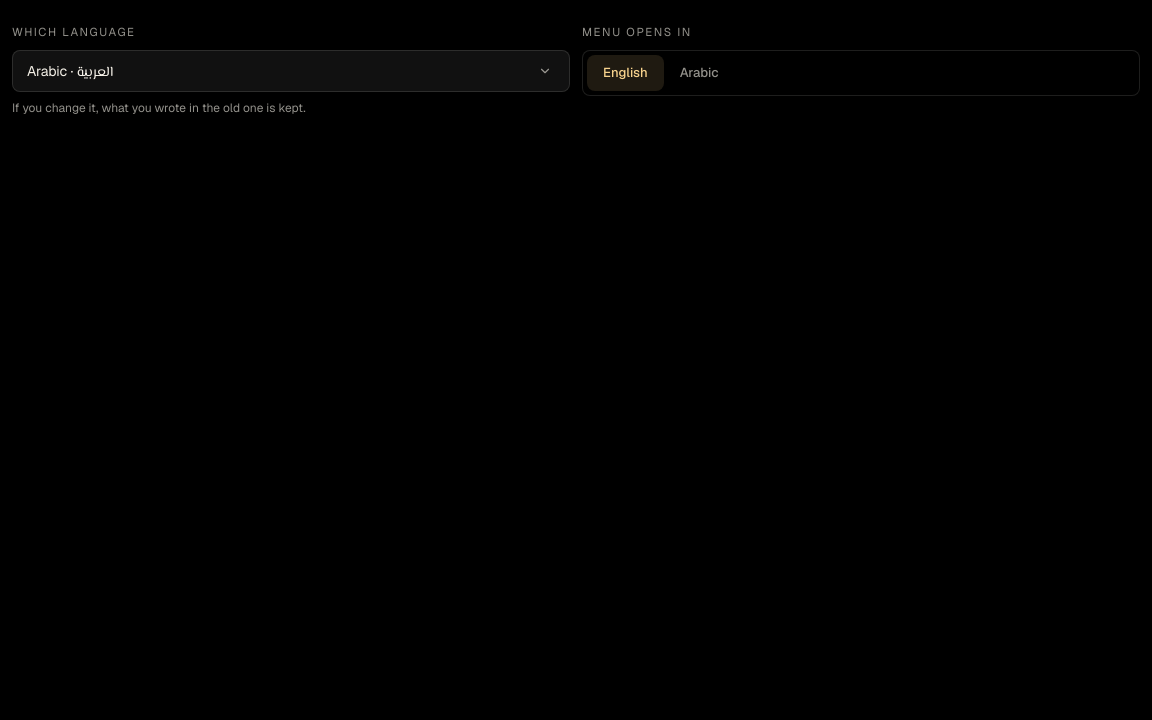
Test: LanguageChoice › says so when the languages cannot be saved
The width and height of the screenshot is (1152, 720).
Step 1. Click the tab "Arabic" → (699, 73), box [664,55,734,90]
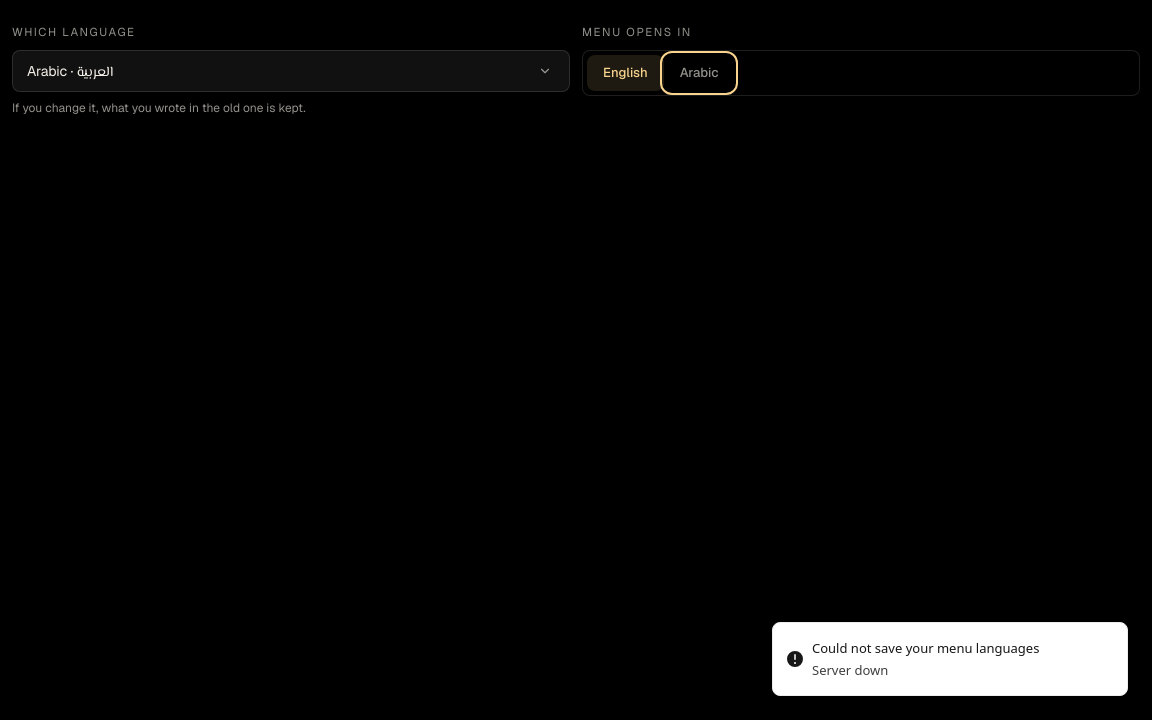
Expected: the text "Could not save your menu languages" is shown, [812,639,1039,659]
